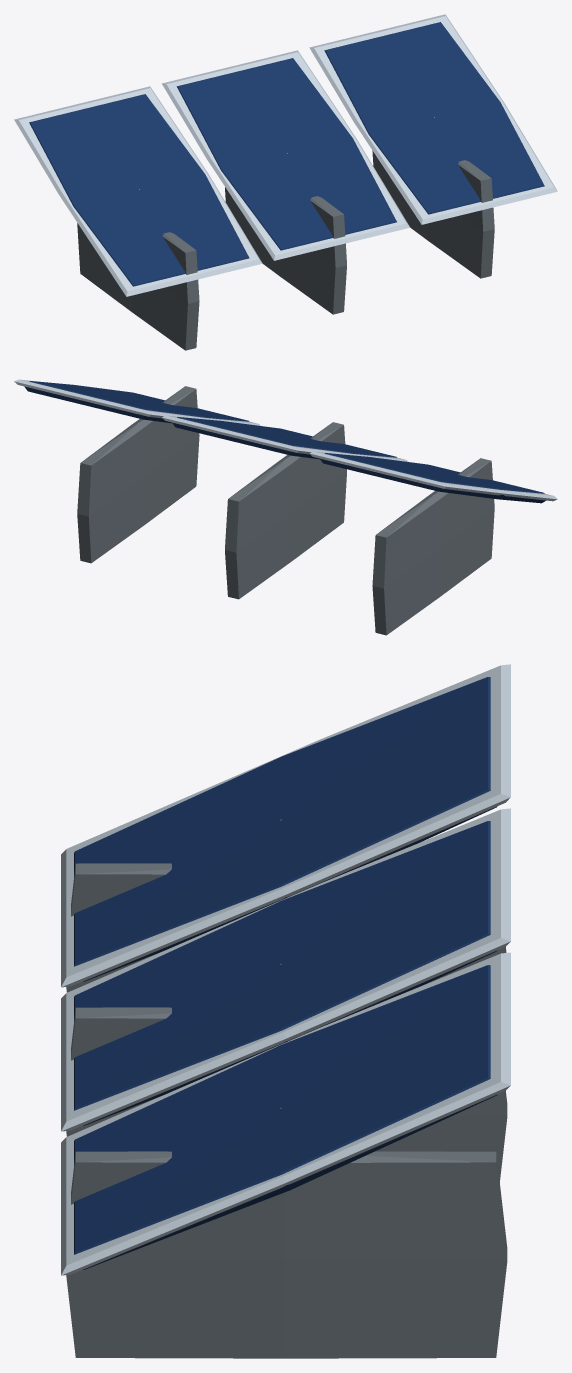
Rendered from r-solar.glb.
3 renders of one model, top to bottom at view 1: azimuth 30°, elevation 25°; view 2: azimuth 150°, elevation 25°; view 3: azimuth 270°, elevation 25°, orthographic. The views are drawn at different scales.
Visible parts, largest first — view 1: p; view 2: p; view 3: p.
Part boxes in pixels (box(x1,y1,x2,y2)): p: box(14, 14, 557, 350); p: box(14, 379, 557, 635); p: box(61, 664, 510, 1358).
Size of the model in its own units: 2.66 by 0.9906 by 1.19.
